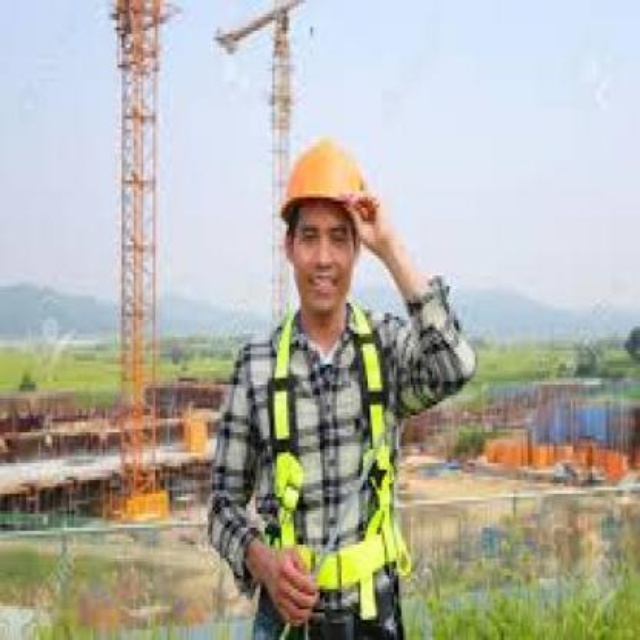Arnes_seguridad: (244, 301, 419, 621)
